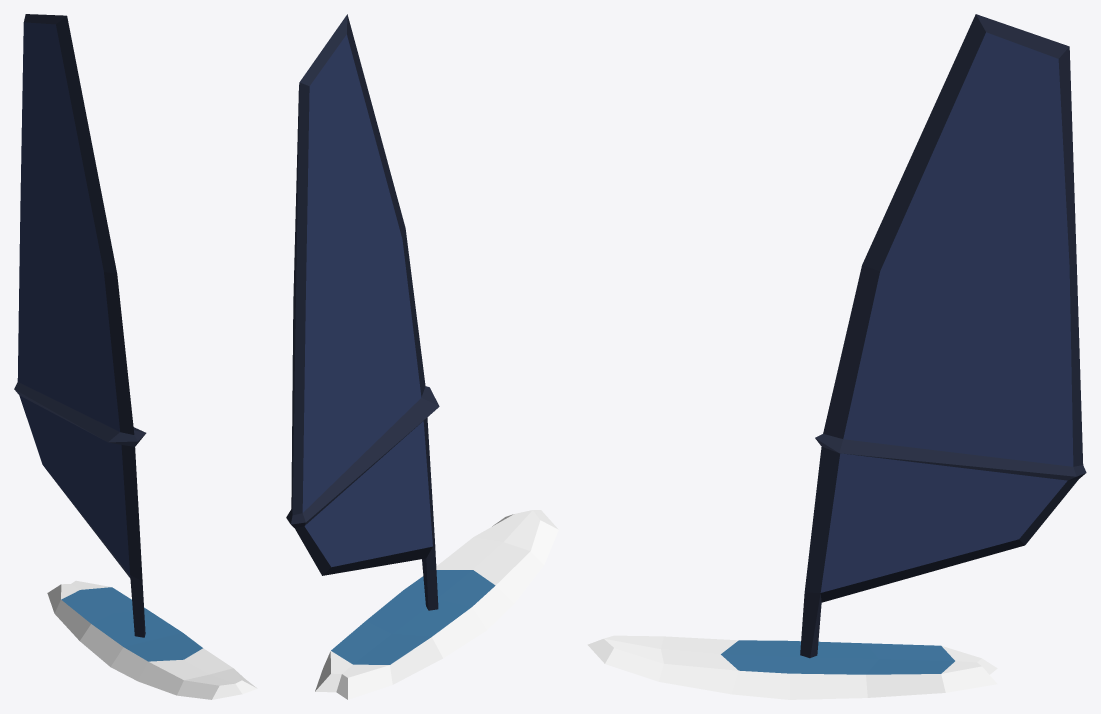
The model's file is sport-windsurf.glb.
3 renders of one model, left to right at view 1: azimuth 30°, elevation 25°; view 2: azimuth 150°, elevation 25°; view 3: azimuth 270°, elevation 25°, orthographic. The views are drawn at different scales.
Visible parts, largest first — view 1: windsurf-sail, windsurf-base; view 2: windsurf-sail, windsurf-base; view 3: windsurf-sail, windsurf-base.
Part boxes in pixels (bbox=[...]): windsurf-sail: bbox=[14, 14, 146, 637]; windsurf-base: bbox=[47, 580, 257, 699]; windsurf-sail: bbox=[286, 14, 439, 610]; windsurf-base: bbox=[315, 510, 558, 699]; windsurf-sail: bbox=[800, 14, 1086, 658]; windsurf-base: bbox=[587, 635, 997, 699].
Size of the model in its own units: 0.64 by 4.18 by 2.85.
